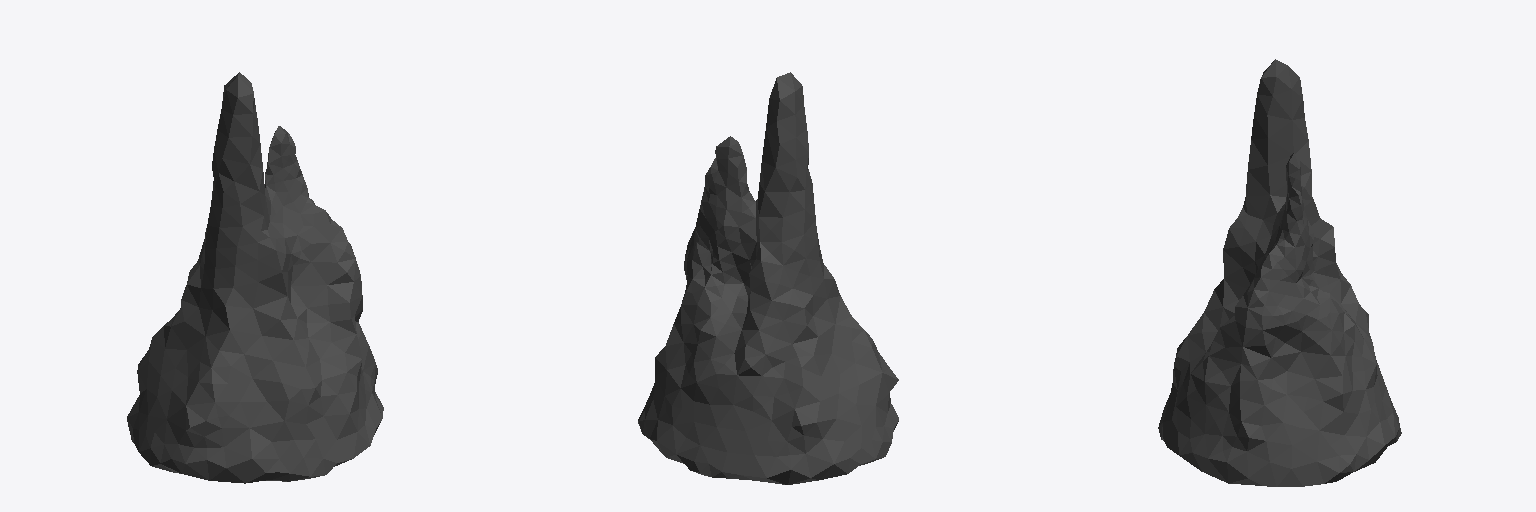
File: CaveRockPack1_Low2.obj
3 views of the same model, side by side, from view 1: azimuth 30°, elevation 25°; view 2: azimuth 150°, elevation 25°; view 3: azimuth 270°, elevation 25° (orthographic).
Visible parts, largest first — view 1: CaveRockPack1_Low2; view 2: CaveRockPack1_Low2; view 3: CaveRockPack1_Low2.
Boxes of the visible parts, x1=… form: CaveRockPack1_Low2: x1=127, y1=72, x2=383, y2=483; CaveRockPack1_Low2: x1=638, y1=72, x2=898, y2=484; CaveRockPack1_Low2: x1=1158, y1=59, x2=1401, y2=486.
Bounding box in the file's own units: 12.5 × 19.84 × 11.71.